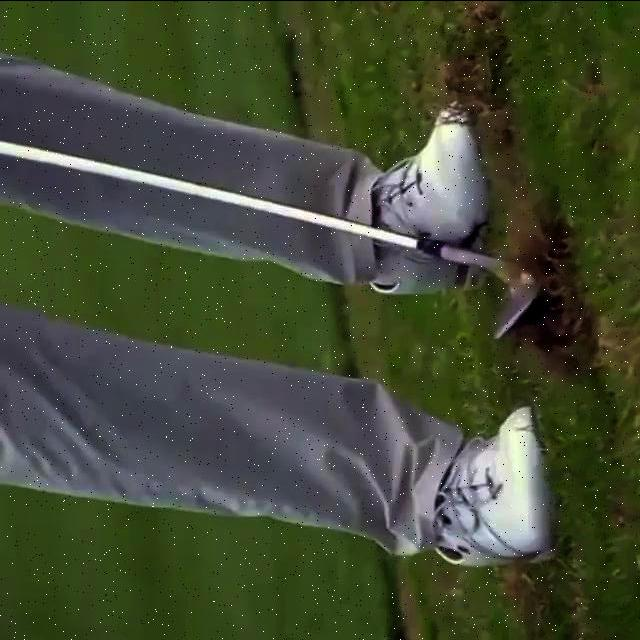golf club-handle: (0, 139, 544, 339)
golf club-head: (491, 278, 545, 337)
